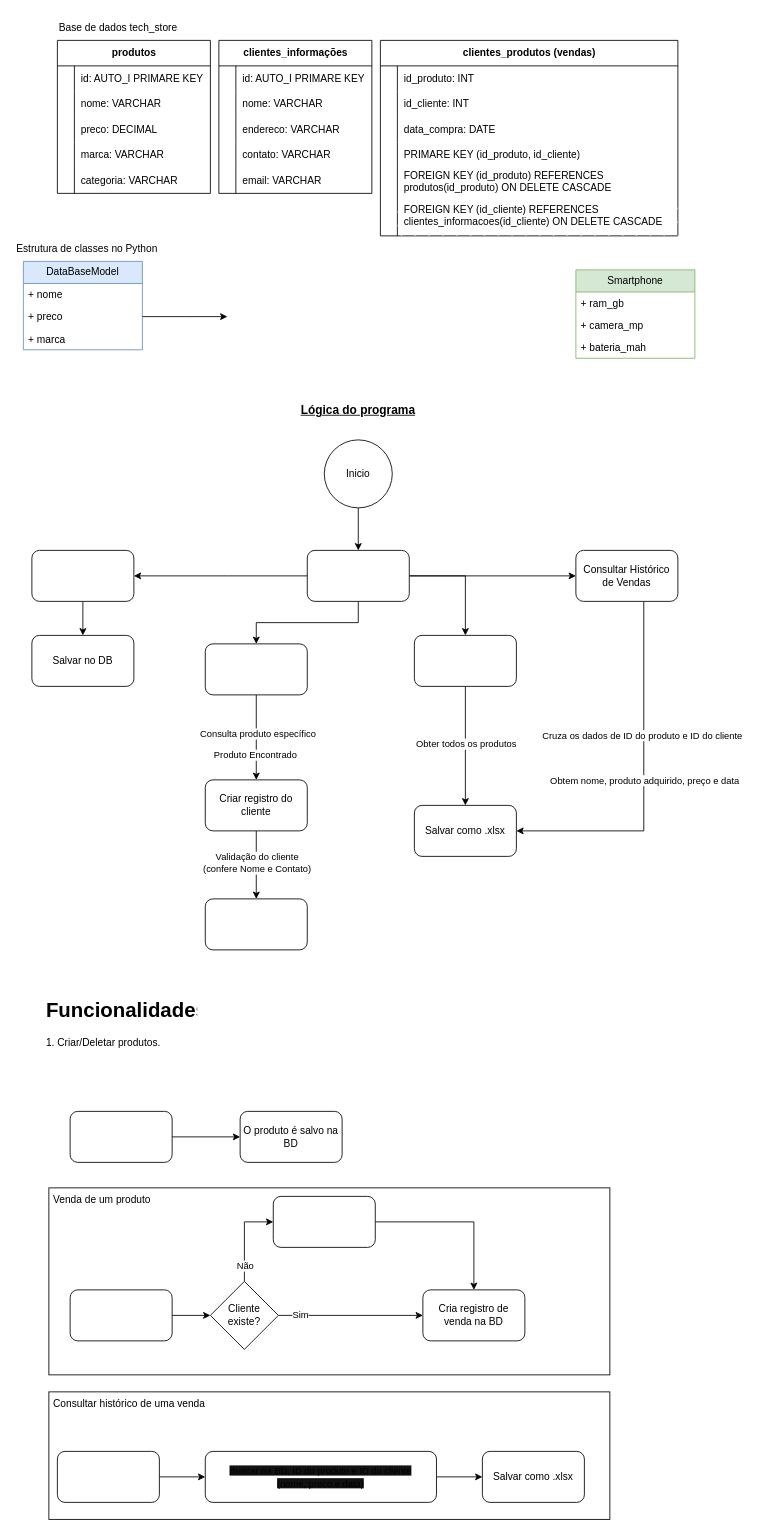
This 757x1534 diagram has some shape labels left out. The shapes that lost their labels are listed below. From the top down, each one's centre as x and y in pixels, then its label:
At point (82, 575): "Criar / Deletar produtos".
At point (357, 575): "Conectar ao DB".
At point (255, 669): "Realizar uma venda".
At point (465, 660): "Salvar dados do DB".
At point (255, 924): "Cliente e Produto específico inseridos no DB".
At point (120, 1136): "Usuário insere dados do produto".
At point (323, 1221): "Cria cliente na base".
At point (120, 1315): "Busca produto específico".
At point (108, 1476): "Seleciona opção".
